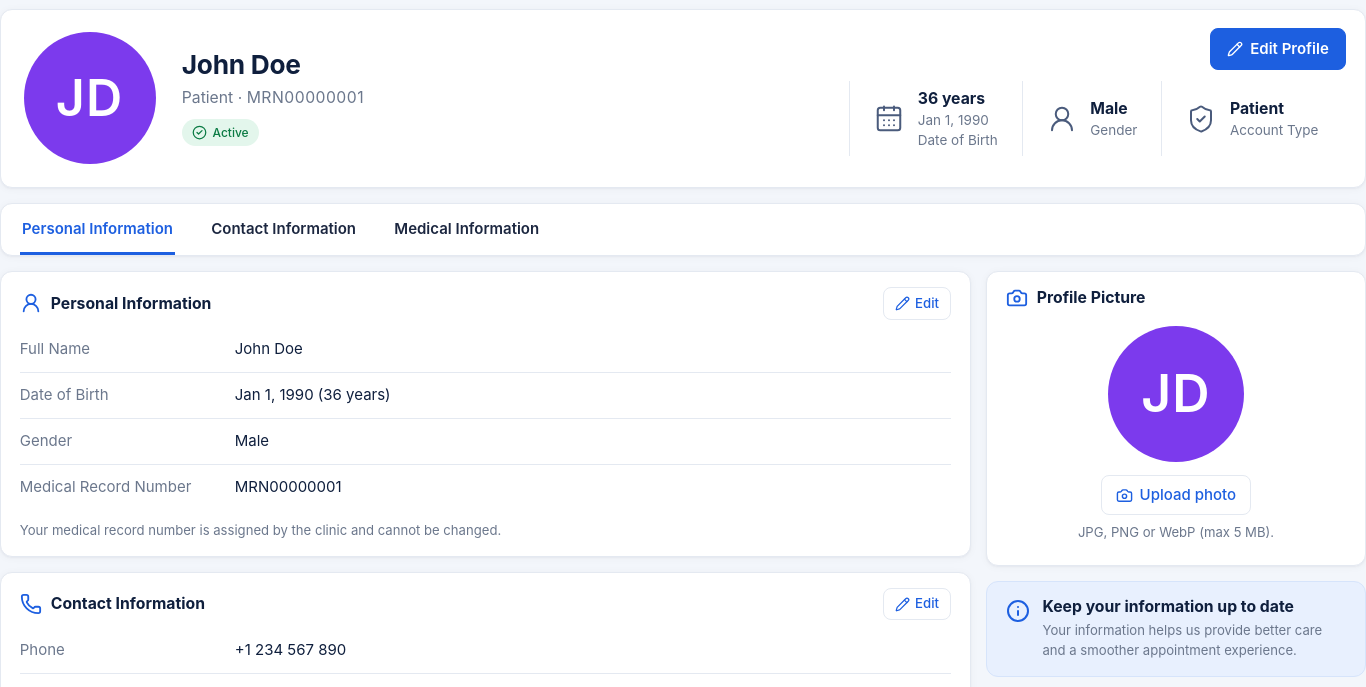
Scenario: My Profile › edits only the contact details and shows the saved values
The width and height of the screenshot is (1366, 687).
Click the button with aria-label "Edit contact details".
click(917, 604)  # box 883,588 -> 951,620
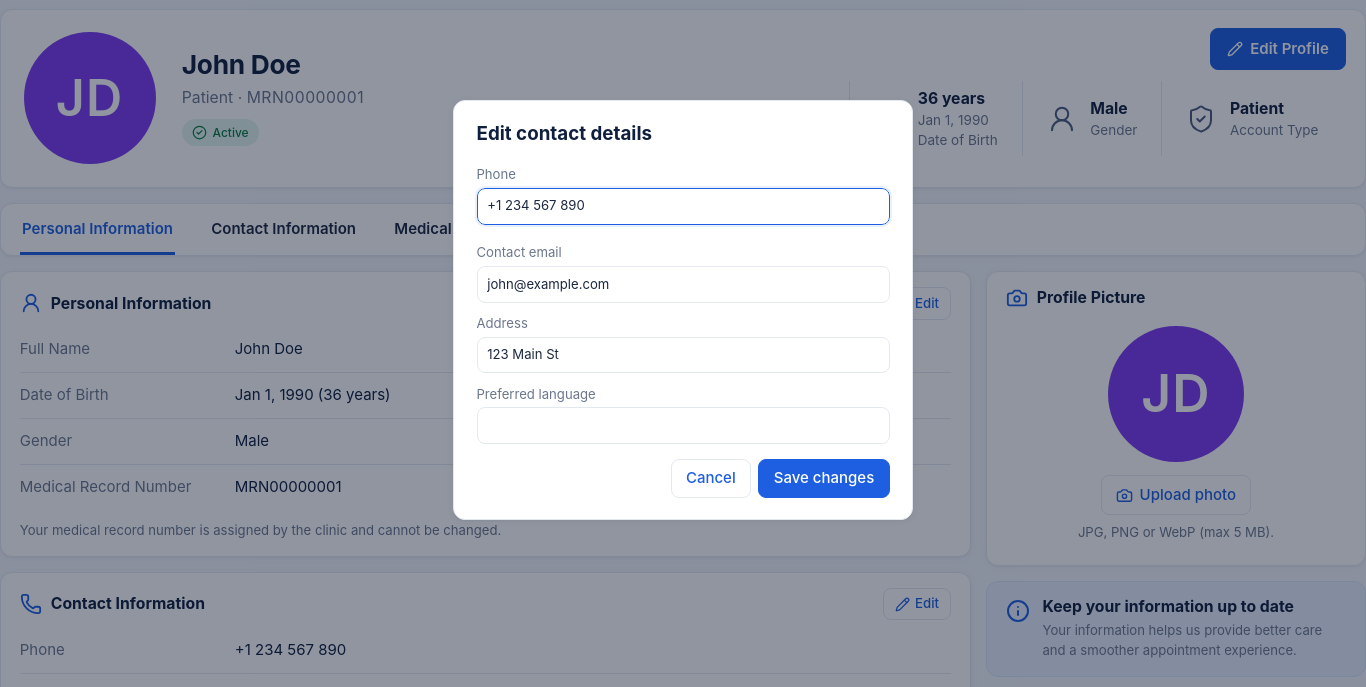
Replace the text in the field labelled "Phone" with "555-0199" at x=683, y=206, box 476,188 -> 890,225
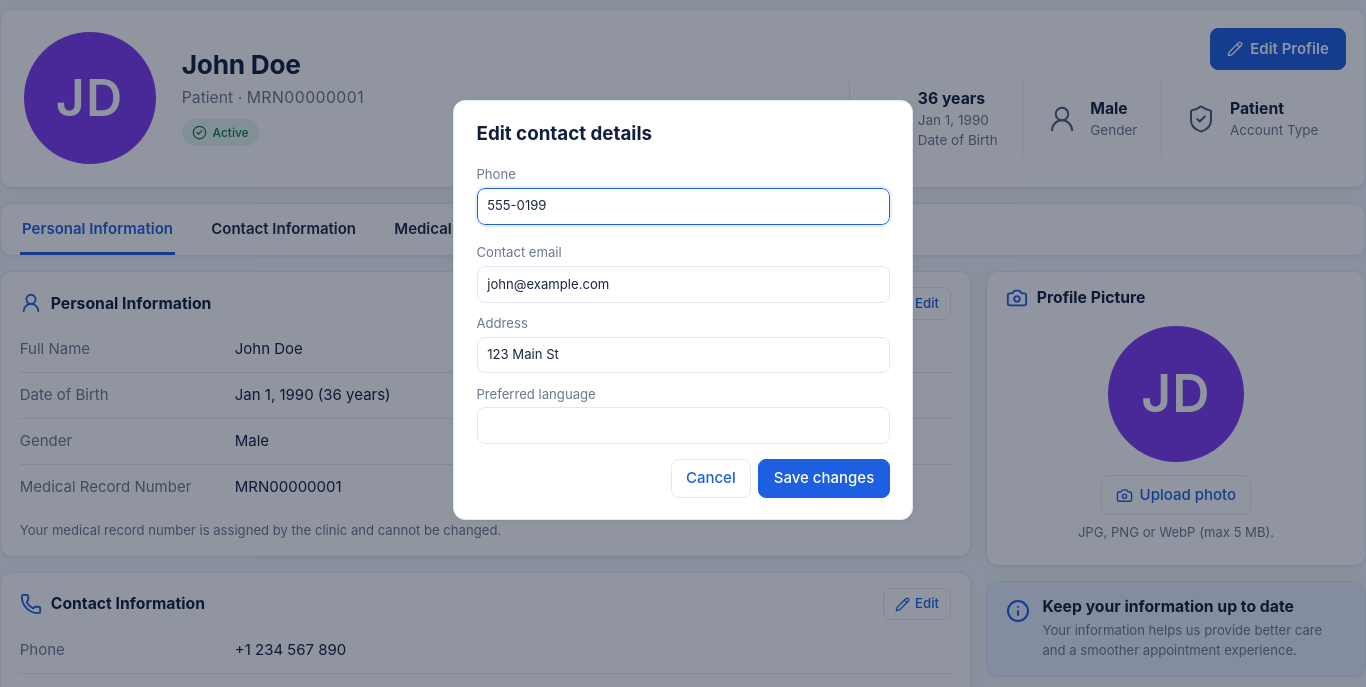
Click the button "Save changes".
click(824, 479)  # box 758,459 -> 890,498
(page scrolled)
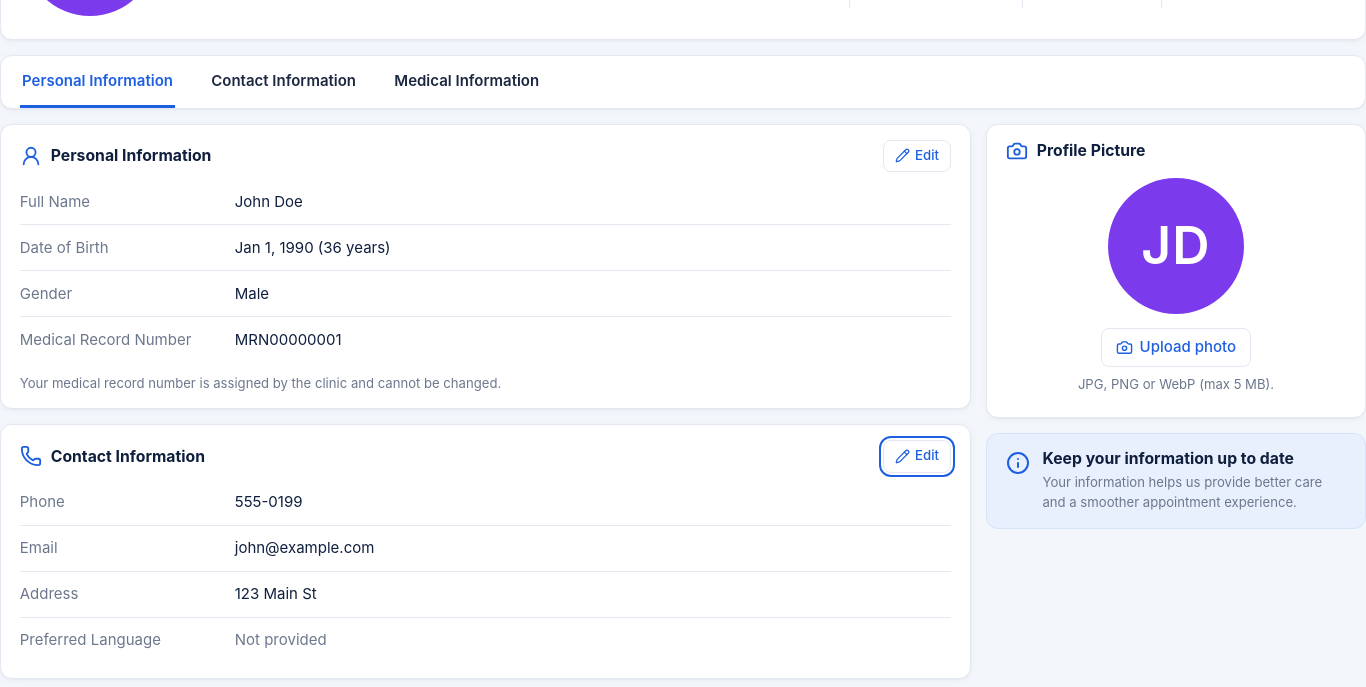
Now the dialog is gone
Now the element "Contact Information" shows "555-0199", box 235,492 -> 303,511
